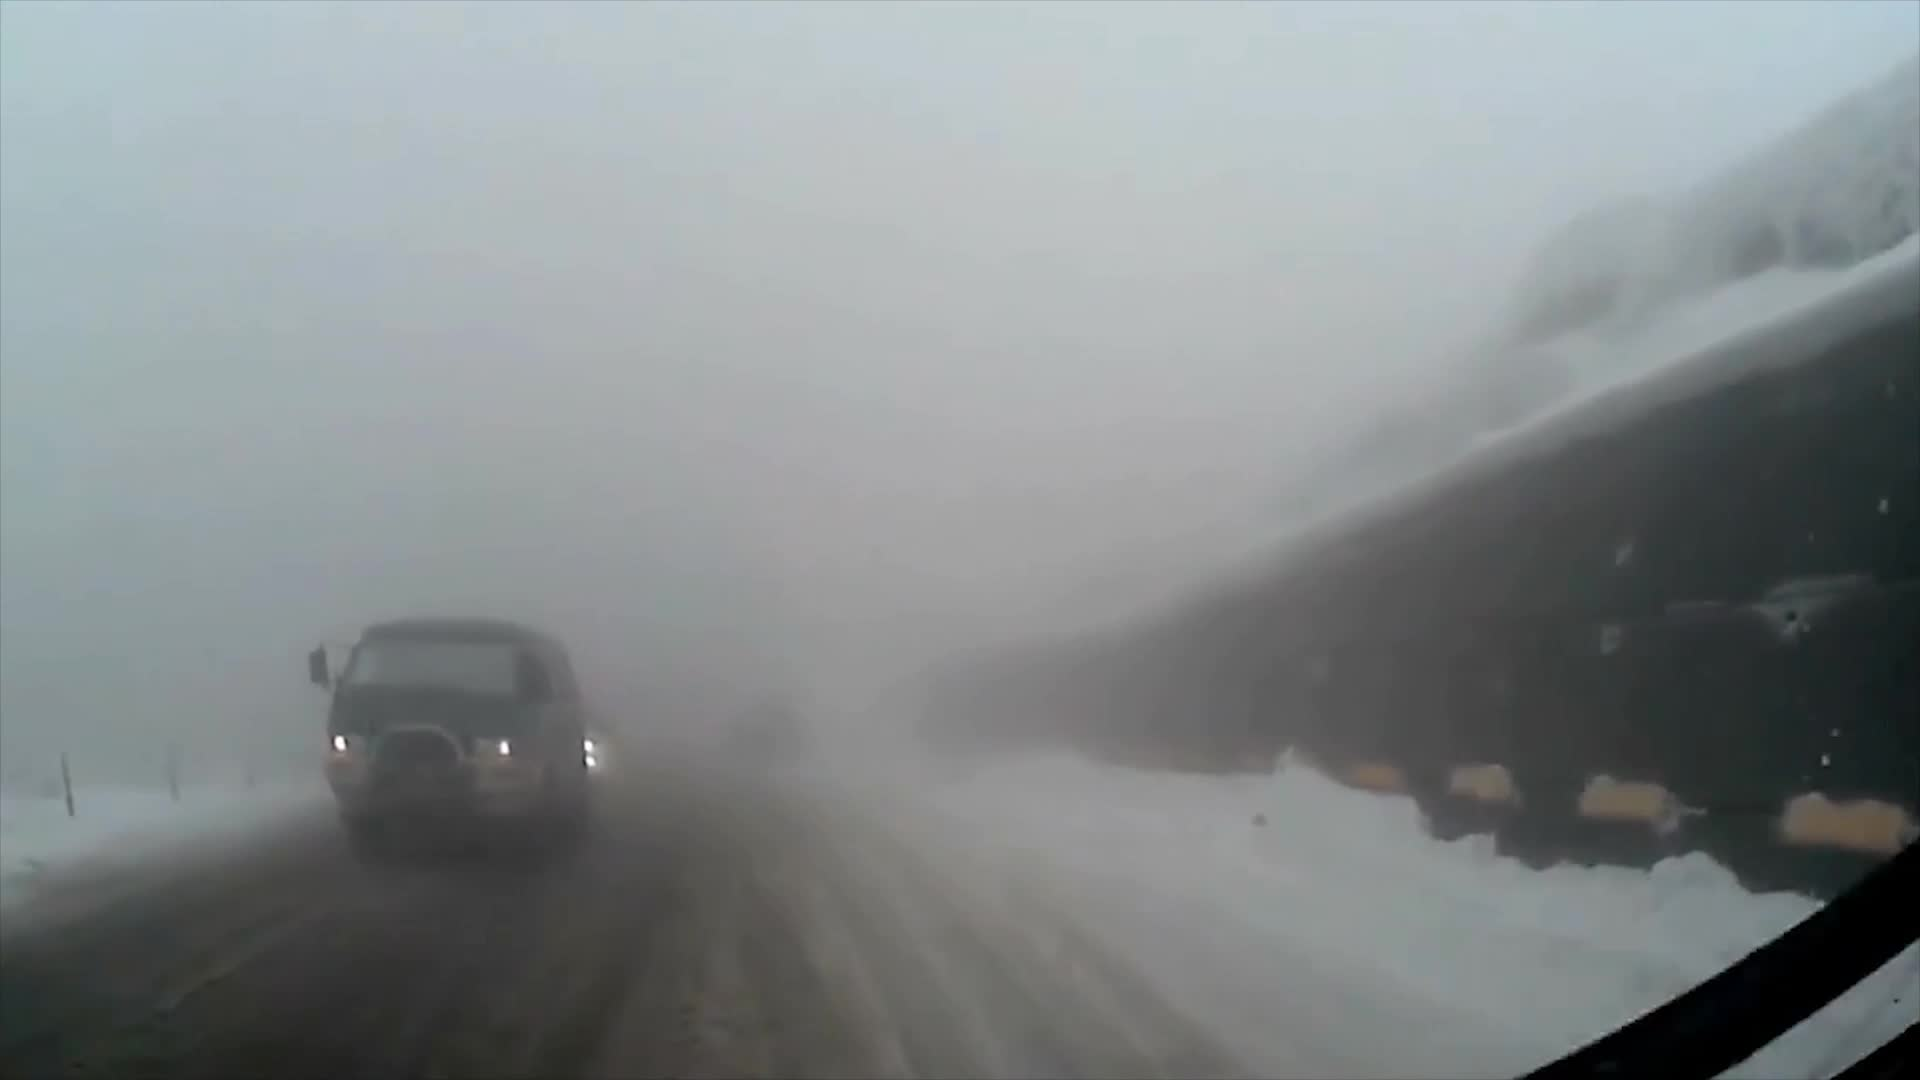vehicle: (303, 618, 593, 877)
